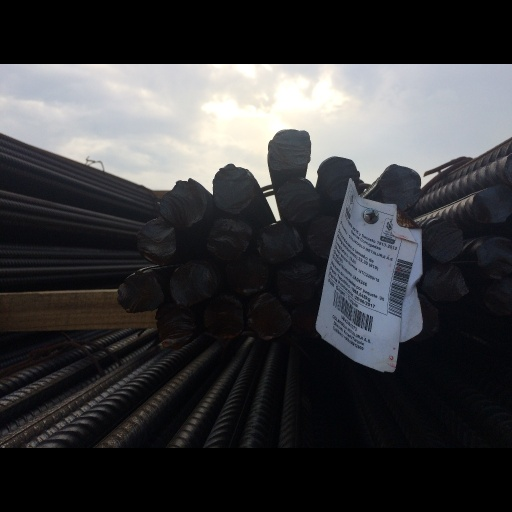dipstick: (212, 165, 252, 215), (249, 293, 291, 338), (159, 180, 203, 222), (208, 218, 253, 259), (170, 263, 212, 305), (203, 296, 244, 339), (117, 275, 163, 313), (268, 130, 310, 171), (381, 165, 421, 206), (258, 223, 301, 261), (157, 305, 194, 349), (423, 265, 468, 301), (277, 180, 317, 220), (225, 259, 269, 294), (319, 157, 357, 197), (425, 220, 462, 261), (136, 221, 174, 259), (408, 295, 439, 341), (278, 263, 314, 302), (307, 218, 339, 260), (473, 187, 510, 222), (478, 237, 512, 274), (484, 278, 512, 315), (292, 303, 320, 339)
